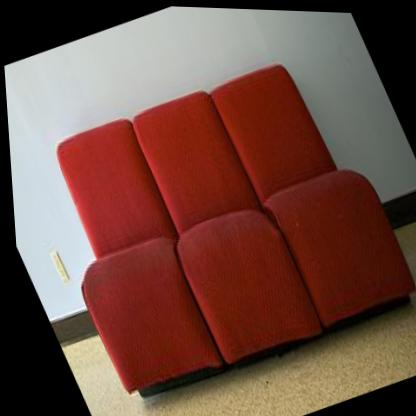Sofa: (10, 37, 416, 414)
